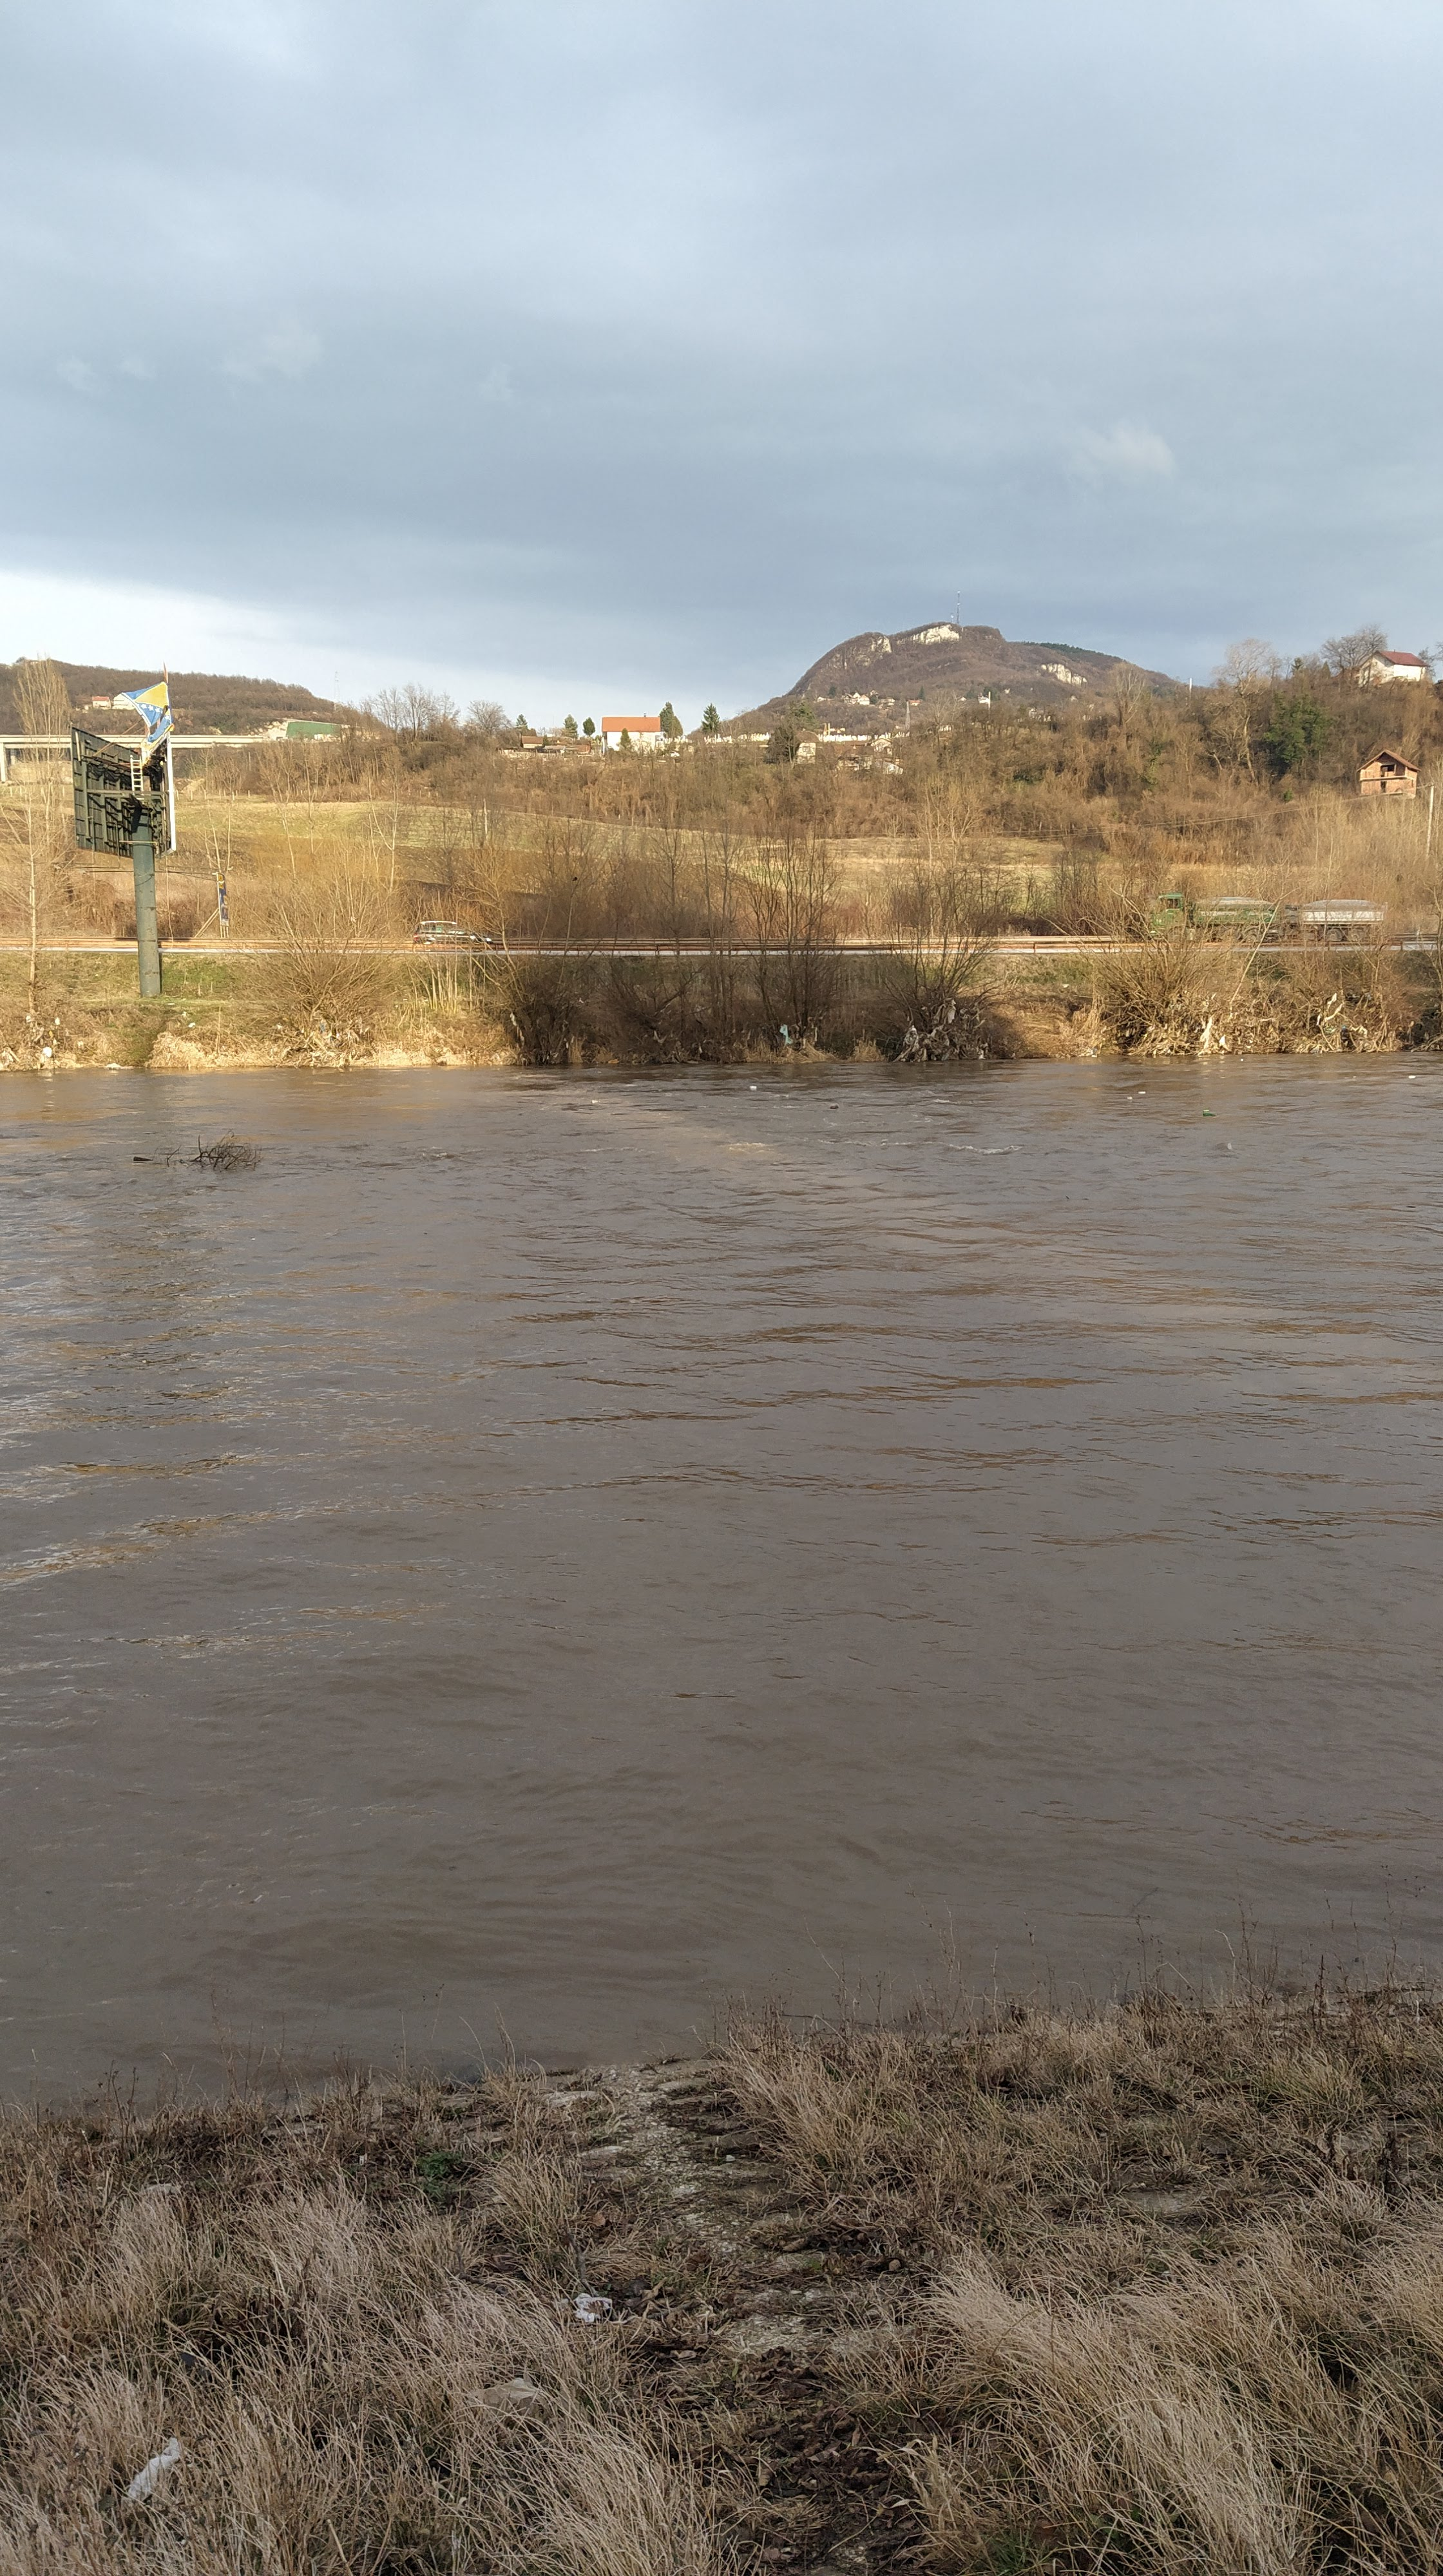Plastic Bottle: (1202, 1111, 1216, 1116), (749, 1085, 756, 1090), (829, 1104, 837, 1108), (1138, 1090, 1146, 1093), (591, 1100, 598, 1102), (1409, 1076, 1415, 1077)
